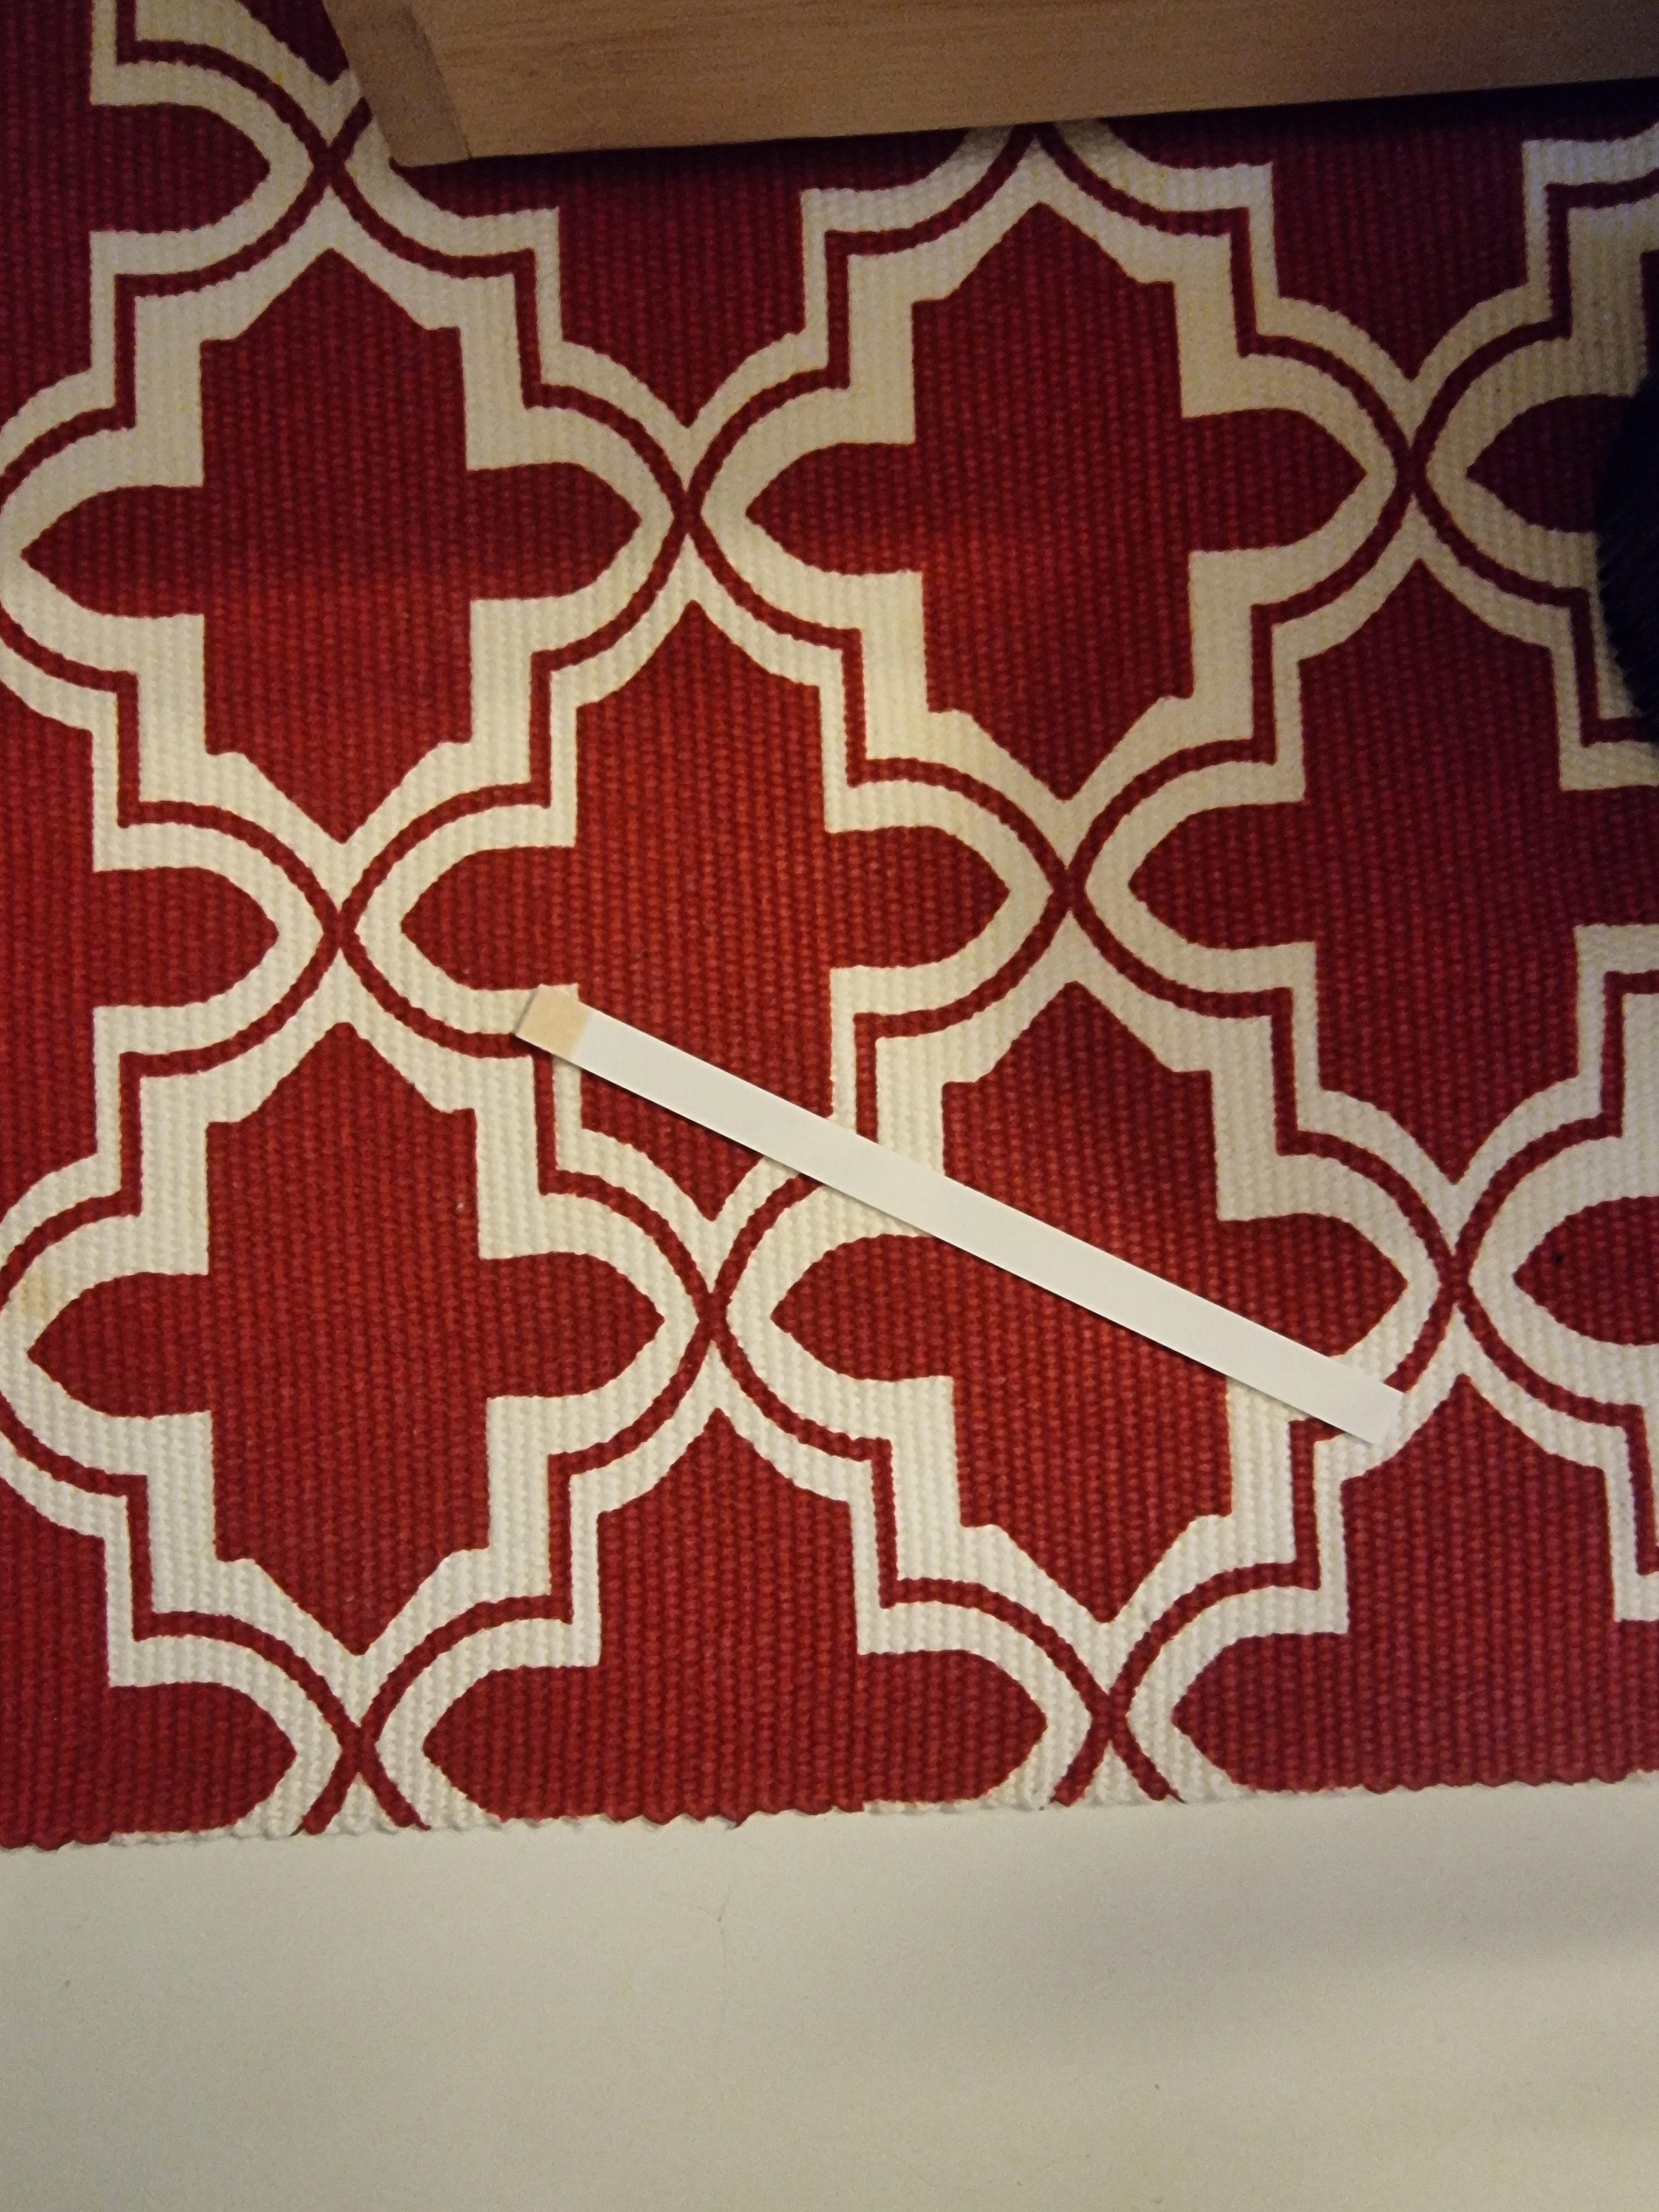keto-tip: (509, 981, 598, 1069)
